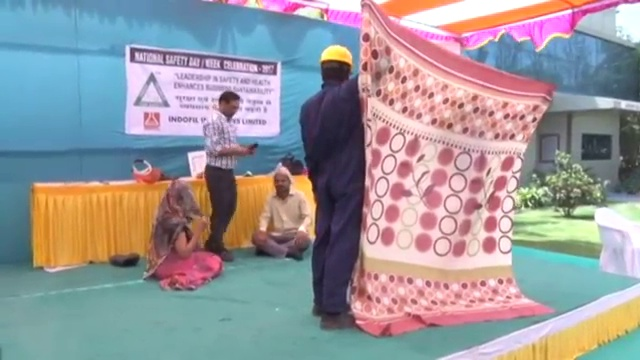helmet: (320, 43, 353, 67)
helmet_off: (164, 178, 195, 209), (271, 166, 292, 196), (219, 91, 241, 118)
helmet_on: (318, 44, 352, 83)
person: (301, 42, 366, 328), (201, 92, 251, 263), (152, 178, 221, 286), (252, 164, 311, 258)
